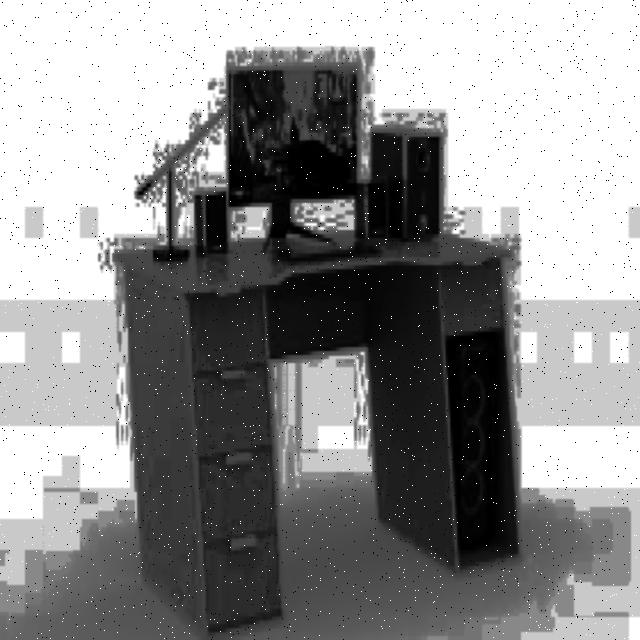table: (114, 226, 524, 640)
